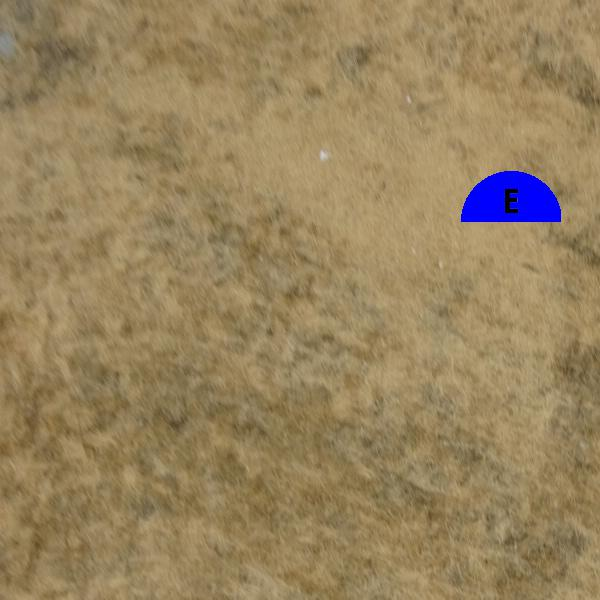SemiCircle: (461, 146, 561, 246)
